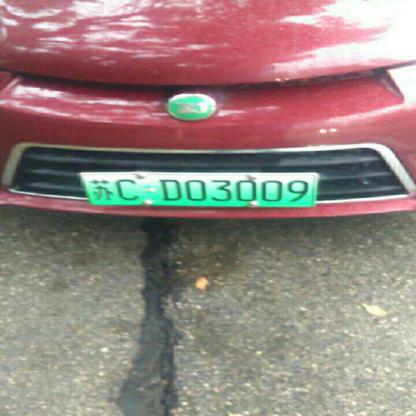lp: (77, 172, 317, 208)
